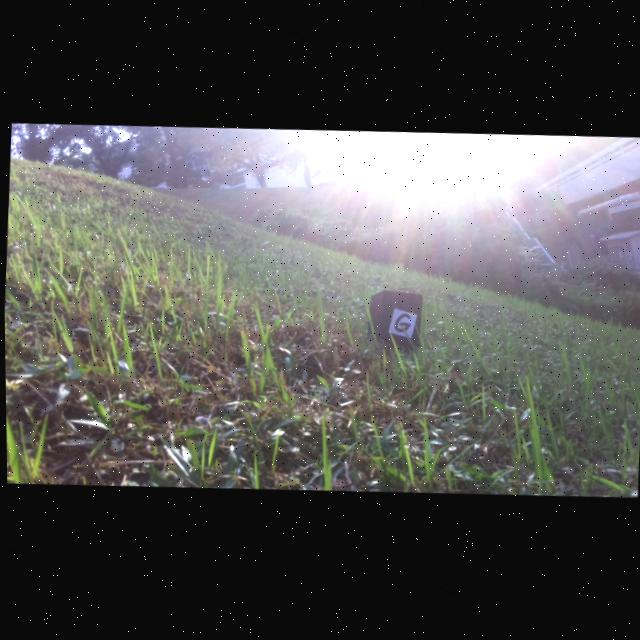G: (394, 316, 409, 335)
